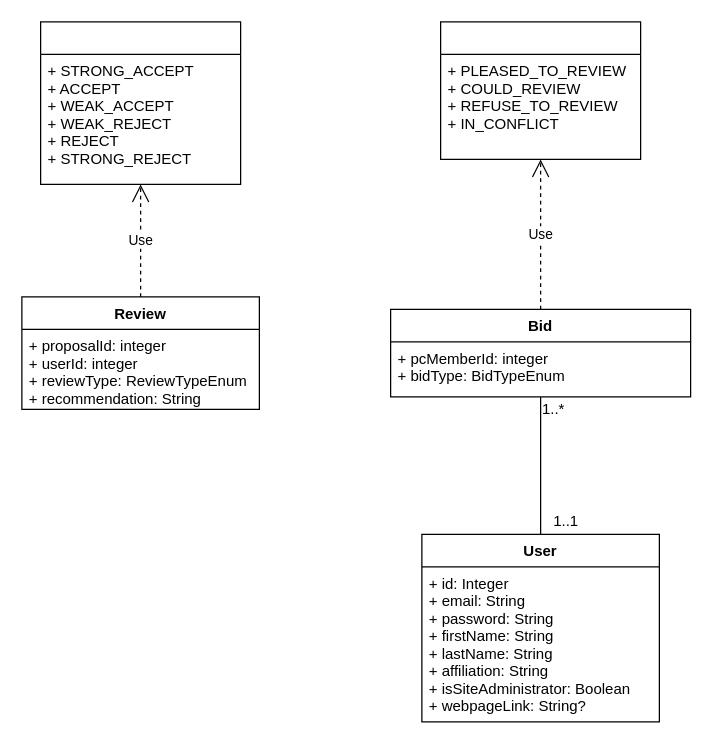
Some shapes in this 713 by 748 pixel diagram are drawn without their labels. The shapes that lost their labels are listed below. From the top down, each one's box as (x1, y1, x2, y2) in pixels, then its label:
(39, 21, 241, 184): ReviewTypeEnum
(439, 21, 641, 159): BidTypeEnum
